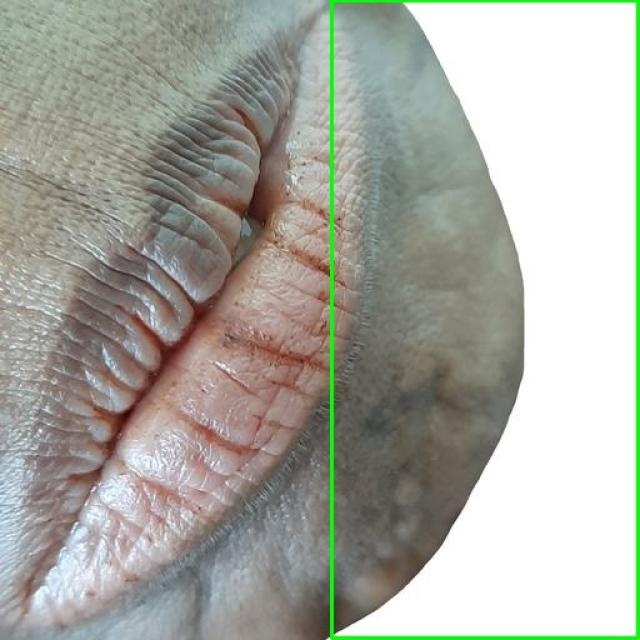Eczema: (332, 0, 639, 639)
